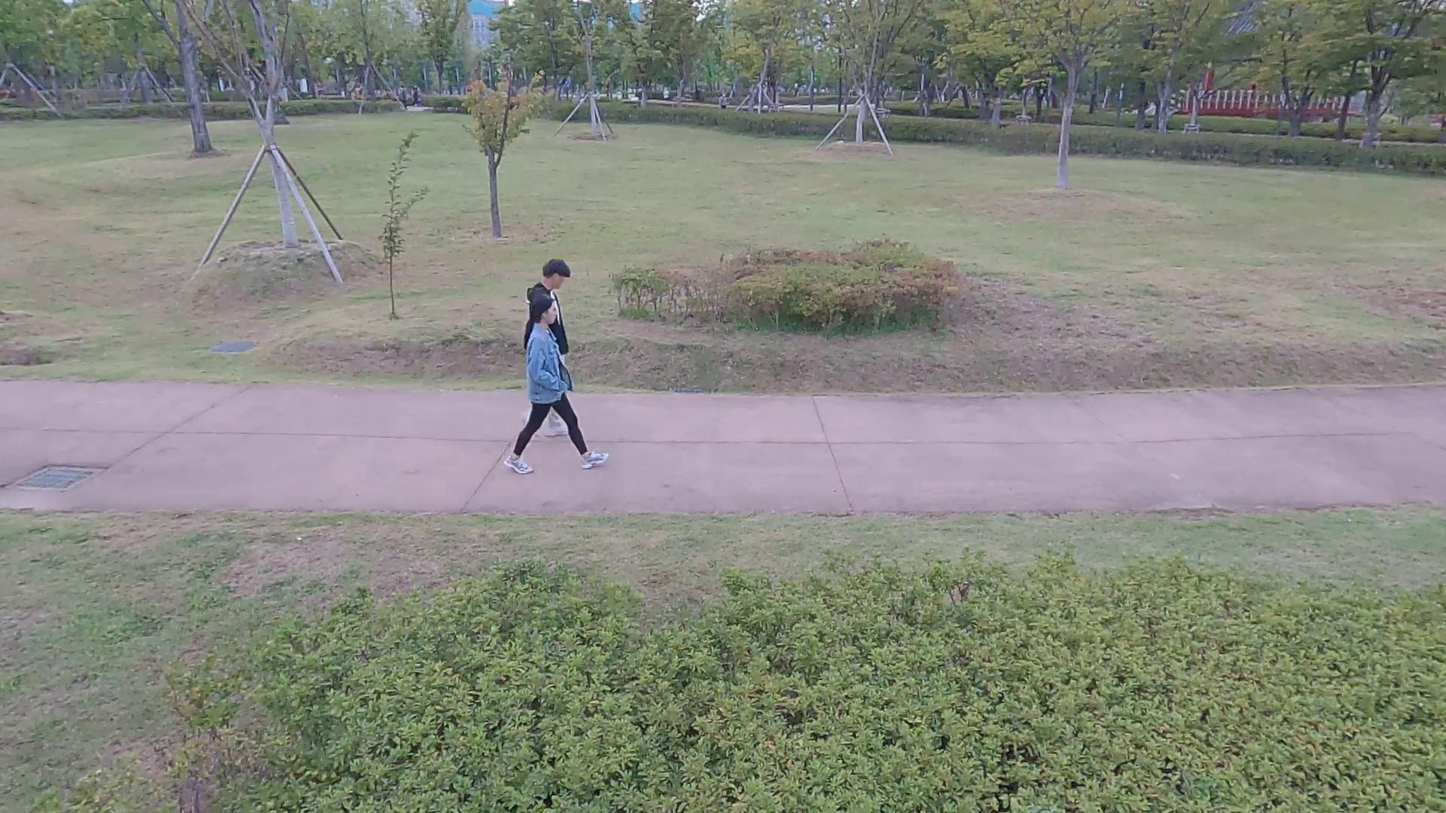person: (506, 296, 608, 473), (522, 258, 583, 441)
